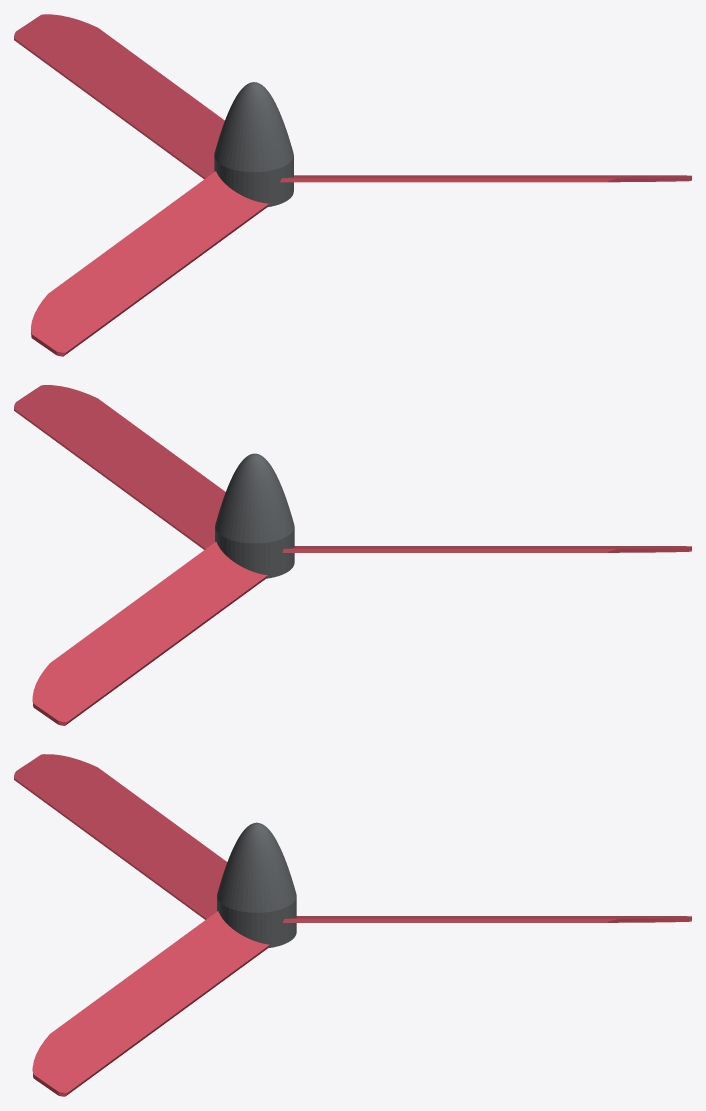
The model's file is prop.glb.
3 views of the same model, one above another, from view 1: azimuth 30°, elevation 25°; view 2: azimuth 150°, elevation 25°; view 3: azimuth 270°, elevation 25° (orthographic).
Parts seen in each view (by area): view 1: Mesh_Mesh_head_geo.001_lambert2SG.001; view 2: Mesh_Mesh_head_geo.001_lambert2SG.001; view 3: Mesh_Mesh_head_geo.001_lambert2SG.001.
Boxes of the visible parts, bbox=[...] form: Mesh_Mesh_head_geo.001_lambert2SG.001: bbox=[14, 14, 691, 356]; Mesh_Mesh_head_geo.001_lambert2SG.001: bbox=[14, 385, 691, 725]; Mesh_Mesh_head_geo.001_lambert2SG.001: bbox=[14, 754, 691, 1096].
Size of the model in its own units: 194 by 30.04 by 170.
